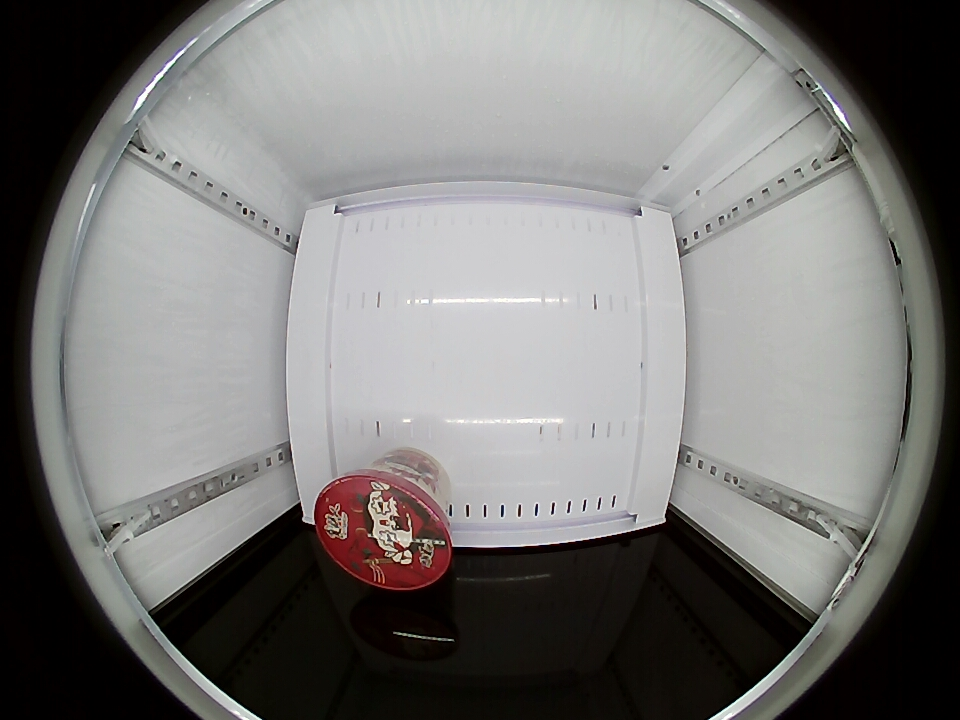suanlafen: (314, 464, 454, 590)
